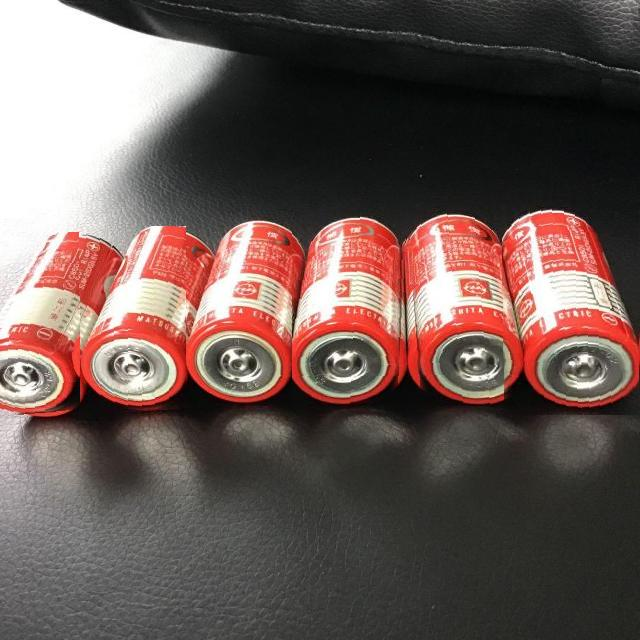battery: (502, 190, 640, 415), (80, 226, 222, 416), (406, 196, 526, 406), (186, 218, 312, 408), (0, 232, 128, 418), (292, 212, 407, 406)
